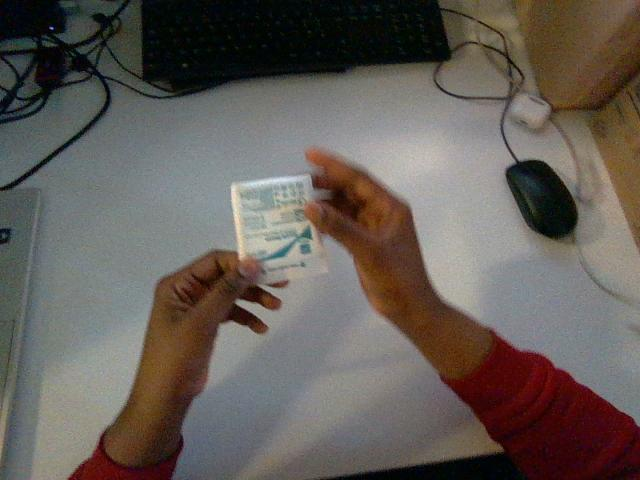gauze: (231, 174, 327, 283)
